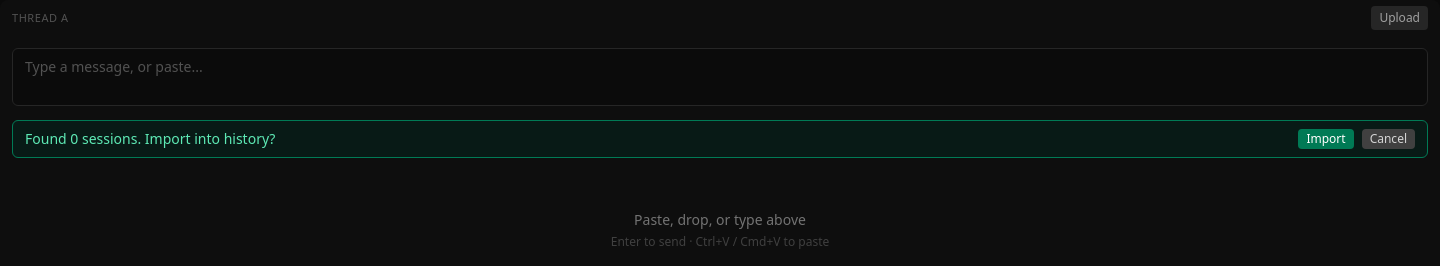
Test: PasteZone › Import and Cancel buttons are disabled while the import promise is pending
Click the button "Import" at (1326, 139), box [1298,129,1354,149]
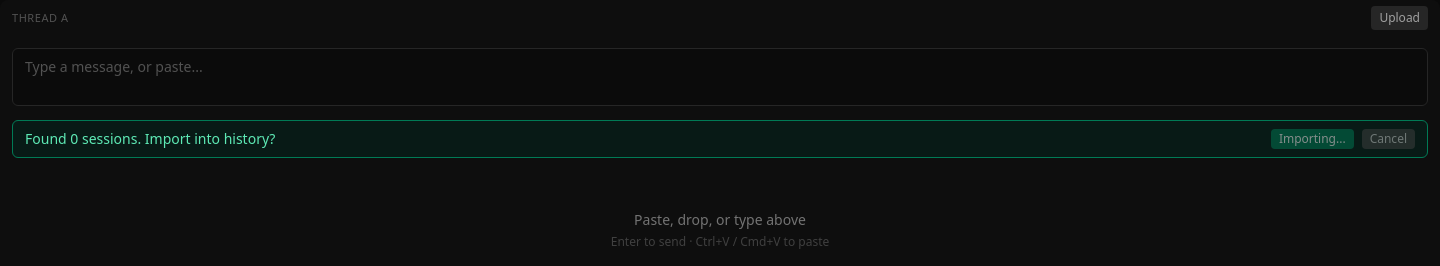
Now the button "Importing..." is disabled, box [1271,129,1354,149]
Now the button "Cancel" is disabled, box [1362,129,1415,149]
